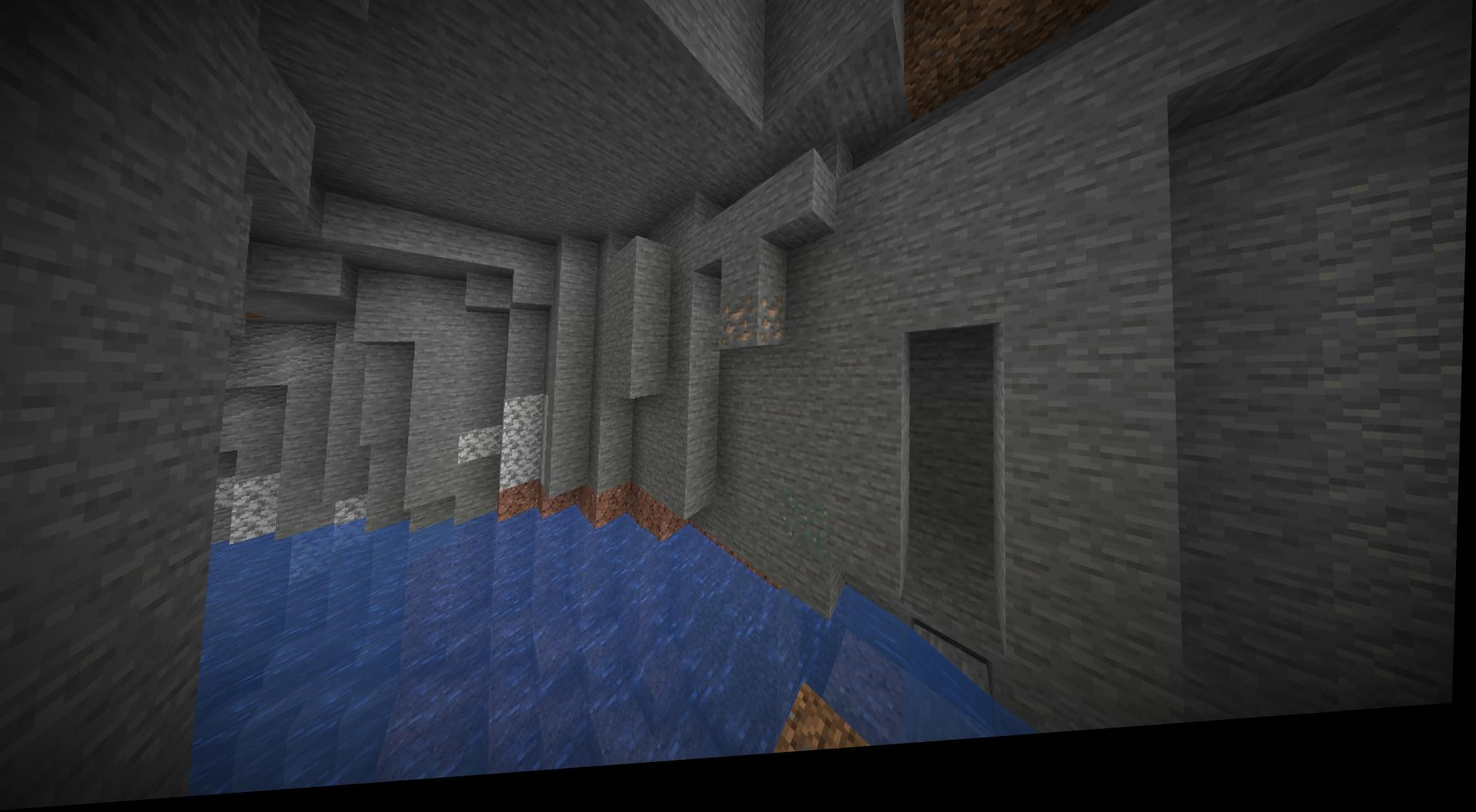iron ore: (719, 311, 763, 360), (759, 303, 788, 354)
